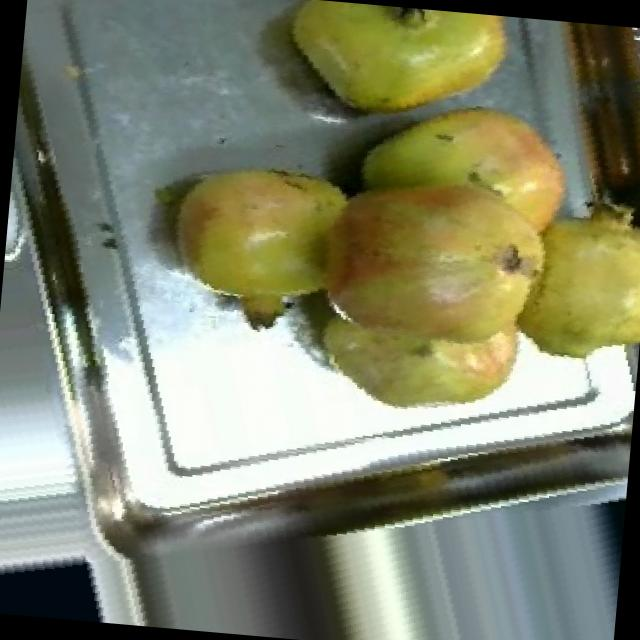fruit: (132, 120, 388, 362), (496, 166, 640, 395)
